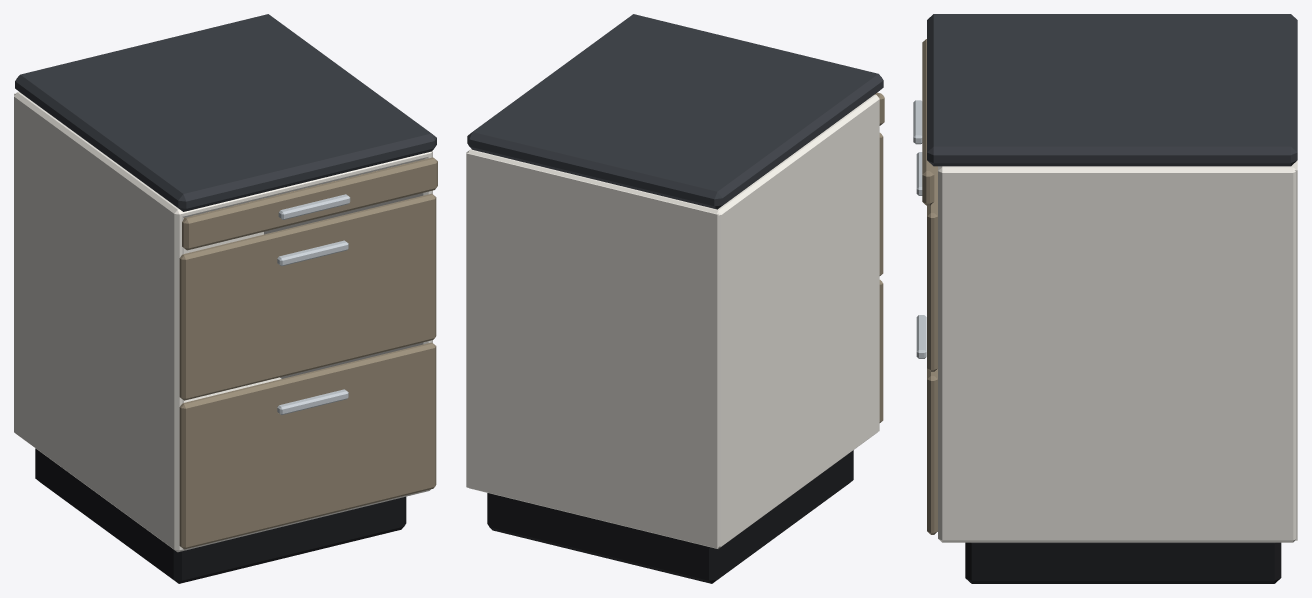
File: fold_out_counter.glb
The picture shows the model from 3 angles, left to right: view 1: azimuth 30°, elevation 25°; view 2: azimuth 150°, elevation 25°; view 3: azimuth 270°, elevation 25°; orthographic projection. The views are drawn at different scales.
Parts seen in each view (by area): view 1: fold_out_counter_Body, fold_out_counter_Board; view 2: fold_out_counter_Body; view 3: fold_out_counter_Body, fold_out_counter_Board.
Boxes of the visible parts, bbox=[...] form: fold_out_counter_Body: bbox=[14, 14, 436, 583]; fold_out_counter_Board: bbox=[182, 157, 437, 250]; fold_out_counter_Body: bbox=[466, 14, 883, 583]; fold_out_counter_Body: bbox=[916, 14, 1297, 583]; fold_out_counter_Board: bbox=[913, 39, 934, 205].
Bounding box in the file's own units: 0.6 × 0.9 × 0.705.
